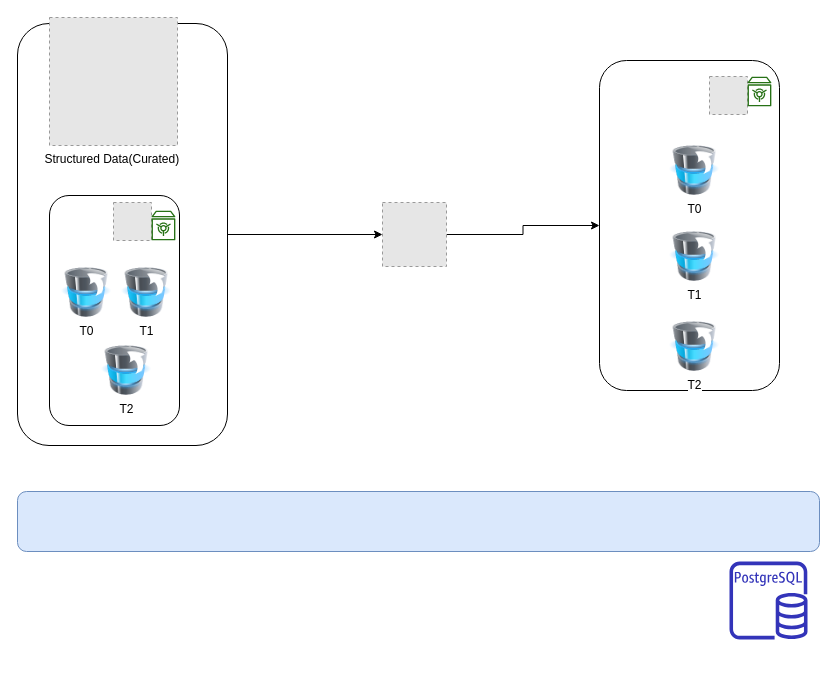
Image size: 837x678. Some labels were removed from this diagram. Grey dashed boxes stand in for pictures. Here are the shapes that lost their labels. From the top down, the centre of each, then its label:
the point at 418,521: Pipeline
the point at 768,600: Metadata Store
